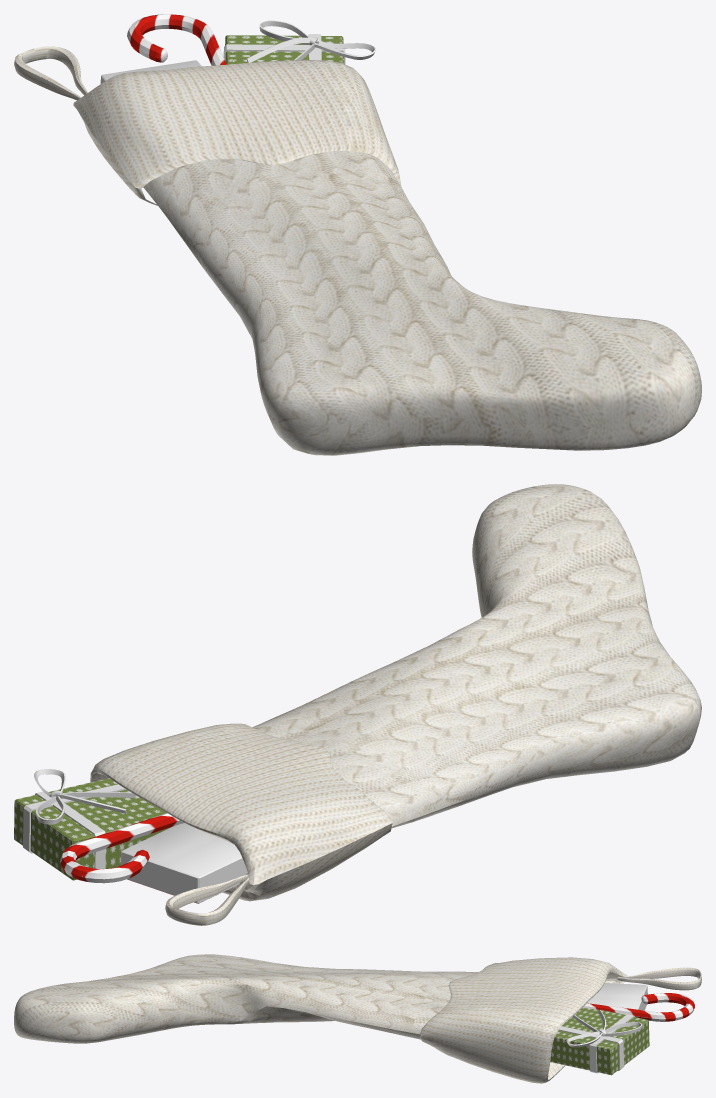
Rendered from stocking_white.gltf.
The picture shows the model from 3 angles, top to bottom: view 1: azimuth 30°, elevation 25°; view 2: azimuth 150°, elevation 25°; view 3: azimuth 270°, elevation 25°; orthographic projection. The views are drawn at different scales.
Parts seen in each view (by area): view 1: sock02 (×2); view 2: sock02 (×2); view 3: sock02 (×2).
Boxes of the visible parts, x1=… form: sock02 (×2): x1=14, y1=14, x2=701, y2=455; sock02 (×2): x1=14, y1=484, x2=701, y2=925; sock02 (×2): x1=14, y1=954, x2=701, y2=1083.
Size of the model in its own units: 0.2126 by 0.0669 by 0.5036.
2 materials, 2 textured.
